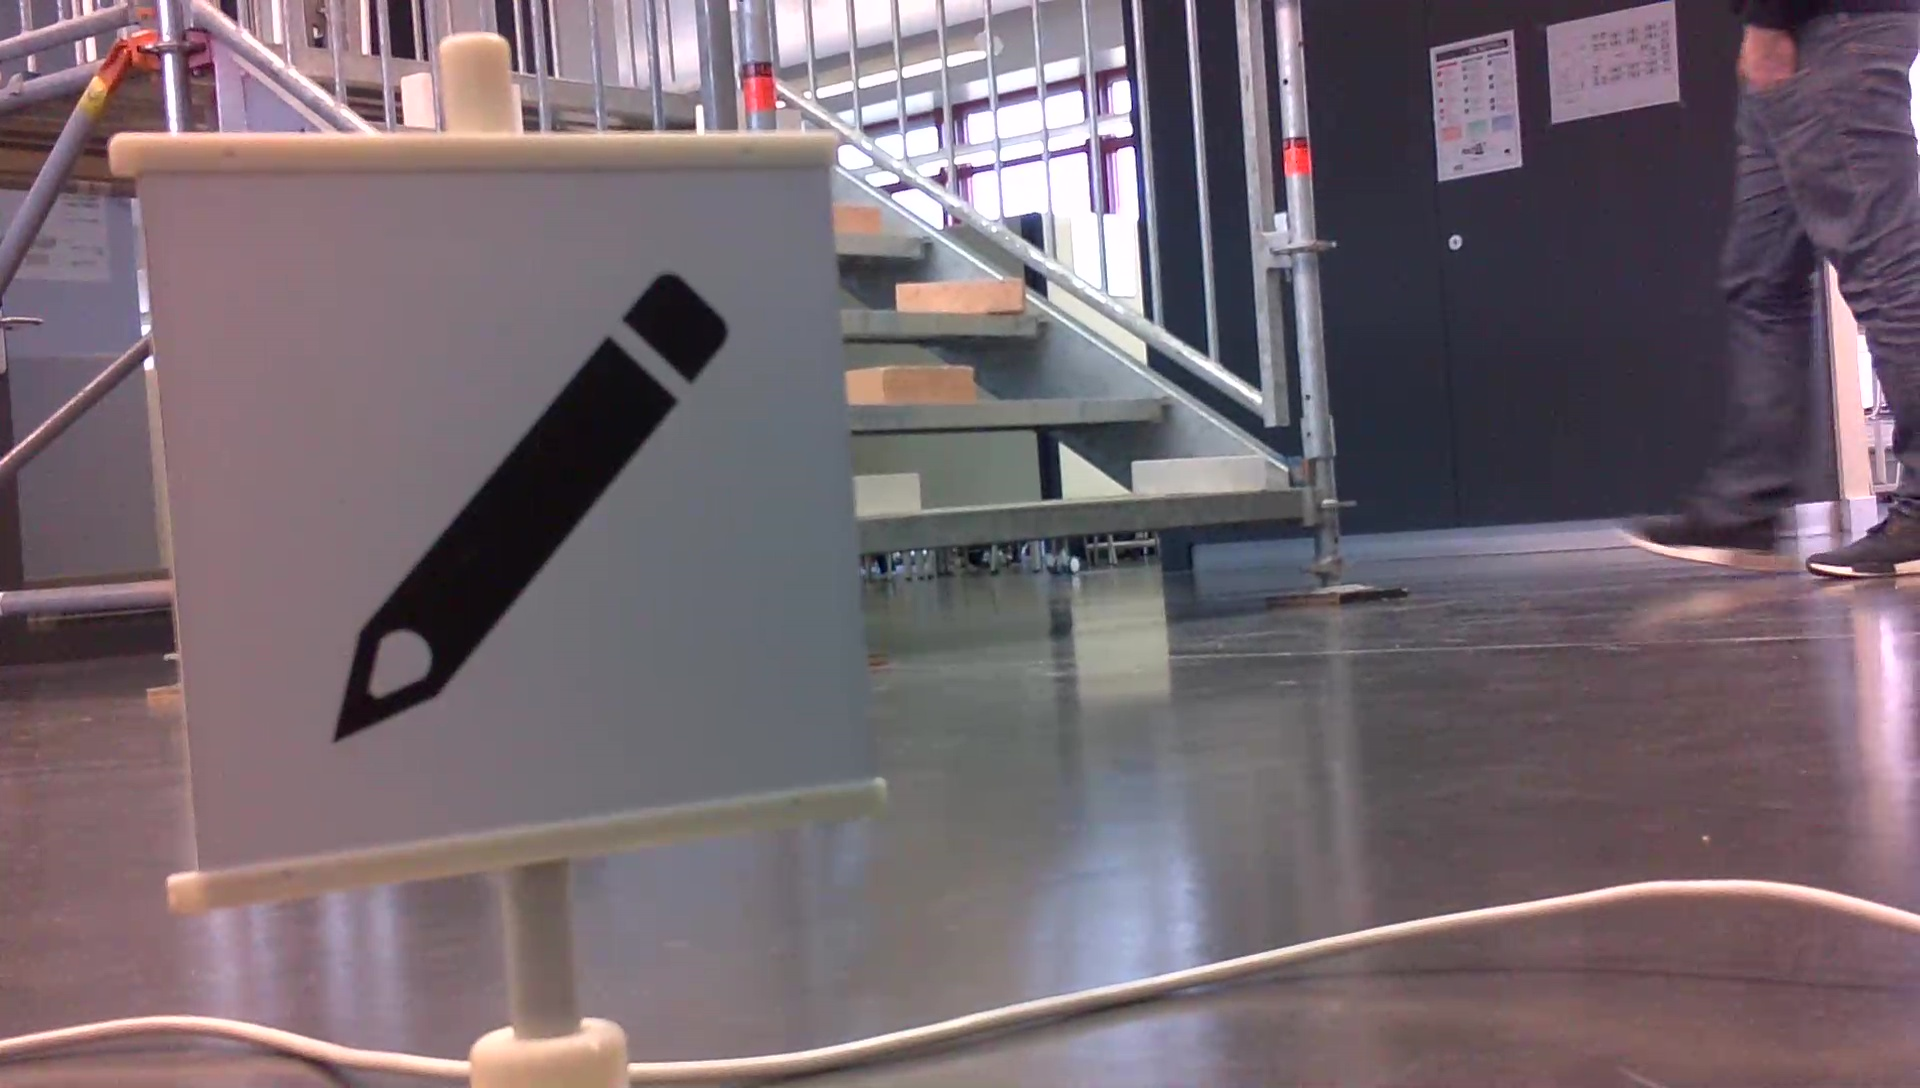brick: (847, 363, 972, 402), (1133, 455, 1259, 493), (895, 278, 1022, 313), (856, 472, 915, 513), (832, 204, 882, 233)
edge: (860, 489, 1302, 553), (848, 396, 1175, 429), (843, 313, 1048, 338), (837, 228, 938, 256)
pencil: (318, 255, 742, 754)
